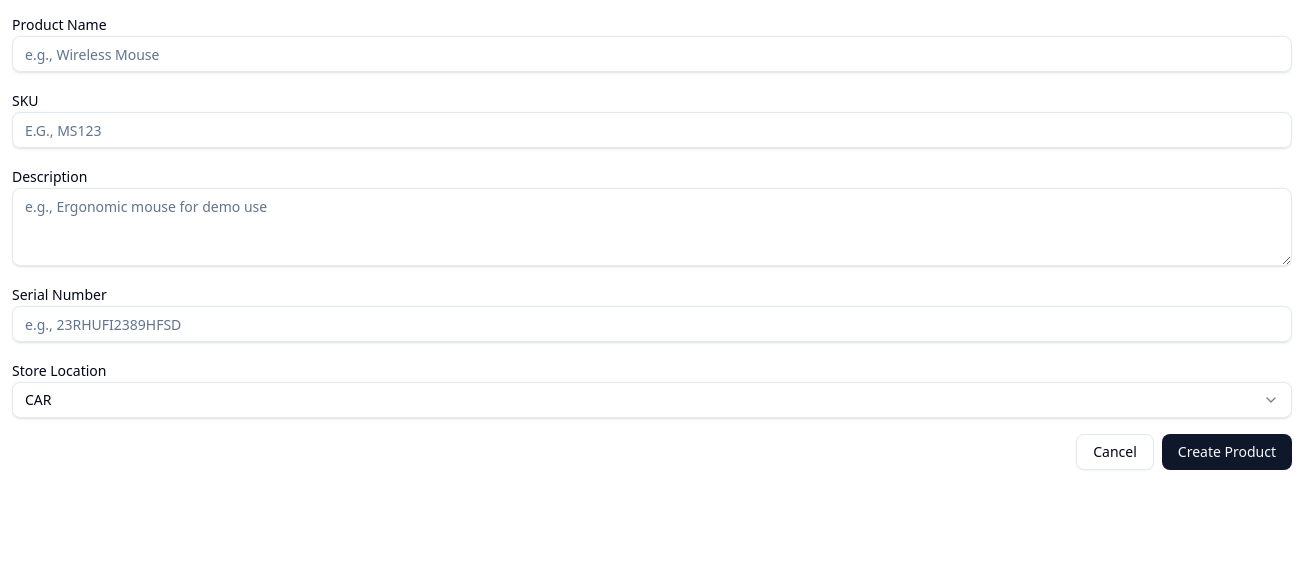
it: CreateProductForm › should validate required fields
Step 1. Click the button "Create Product" → (1227, 452), box [1162,434,1292,470]
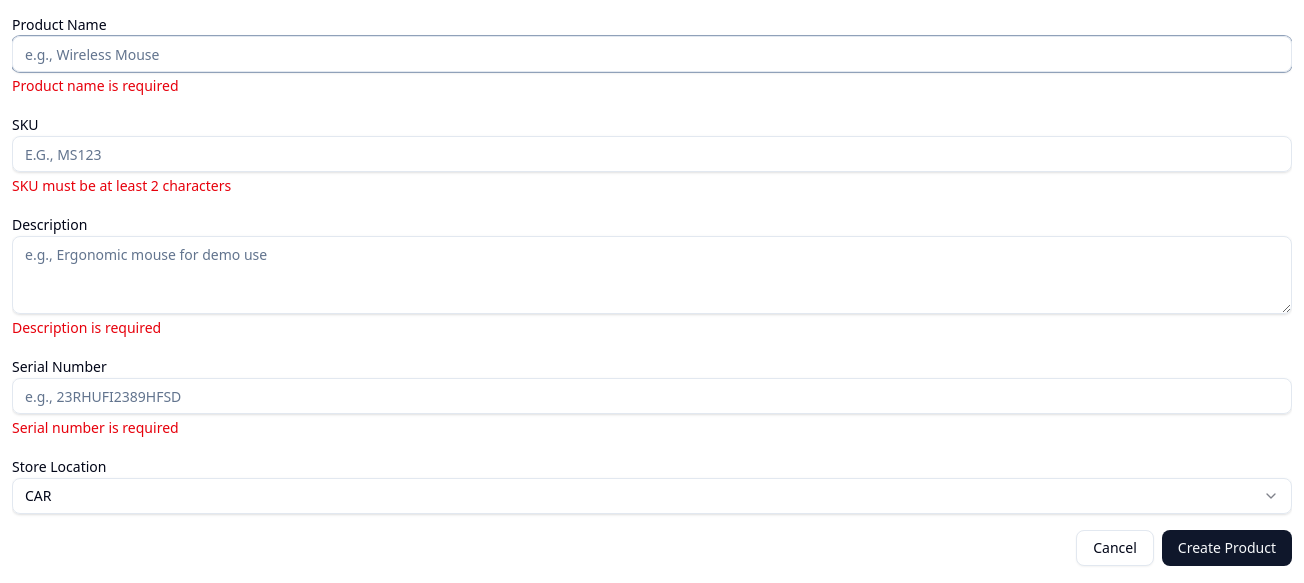
Expected: the text "Product name is required" is shown, [12,76,178,95]
Expected: the text "SKU must be at least 2 characters" is shown, [12,176,231,195]
Expected: the text "Description is required" is shown, [12,318,161,337]
